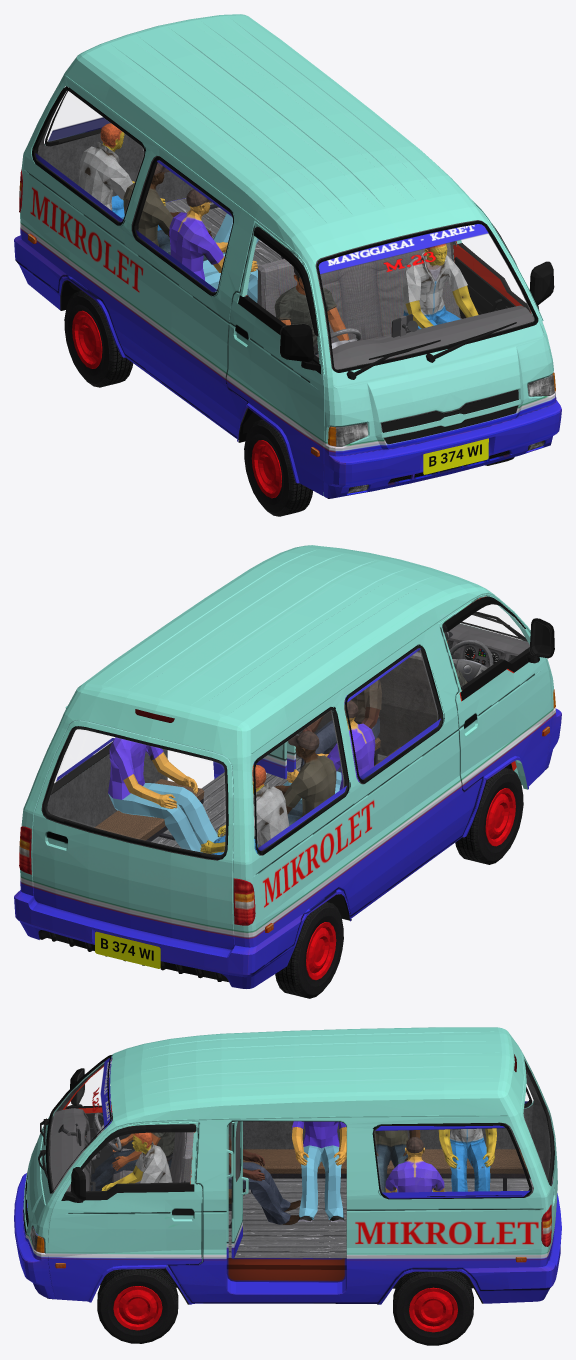
The model's file is angkot.glb.
3 views of the same model, one above another, from view 1: azimuth 30°, elevation 25°; view 2: azimuth 150°, elevation 25°; view 3: azimuth 270°, elevation 25° (orthographic). The views are drawn at different scales.
Visible parts, largest first — view 1: Object_6, Object_7, Object_8, Object_10, Object_15, Object_12, Object_5, Object_11, Object_9, Object_4; view 2: Object_6, Object_7, Object_8, Object_12, Object_15, Object_11, Object_5, Object_10, Object_4, Object_13; view 3: Object_6, Object_8, Object_15, Object_7, Object_12, Object_10, Object_5, Object_13, Object_9, Object_11, Object_4.
Boxes of the visible parts, x1,y1,x2,y2 form: Object_6: (14,14,561,498); Object_7: (32,86,554,498); Object_8: (165,198,543,483); Object_10: (79,123,478,329); Object_15: (64,290,514,516); Object_12: (169,189,259,302); Object_5: (72,310,281,498); Object_11: (123,162,212,260); Object_9: (274,267,349,355); Object_4: (19,169,555,493); Object_6: (14,545,561,988); Object_7: (38,596,554,984); Object_8: (94,623,529,848); Object_12: (108,699,375,852); Object_15: (275,768,523,998); Object_11: (254,731,336,838); Object_5: (306,788,515,980); Object_10: (200,764,289,854); Object_4: (19,689,555,932); Object_13: (300,679,381,772); Object_6: (14,1027,561,1304); Object_8: (42,1108,537,1258); Object_15: (97,1268,473,1345); Object_7: (23,1055,554,1304); Object_12: (292,1121,444,1221); Object_10: (101,1128,496,1191); Object_5: (113,1286,457,1332); Object_13: (228,1134,300,1224); Object_9: (91,1132,174,1190); Object_11: (374,1128,420,1192); Object_4: (30,1054,551,1268).
Bounding box in the file's own units: 2.02 × 2.12 × 4.28.
14 materials, 12 textured.
